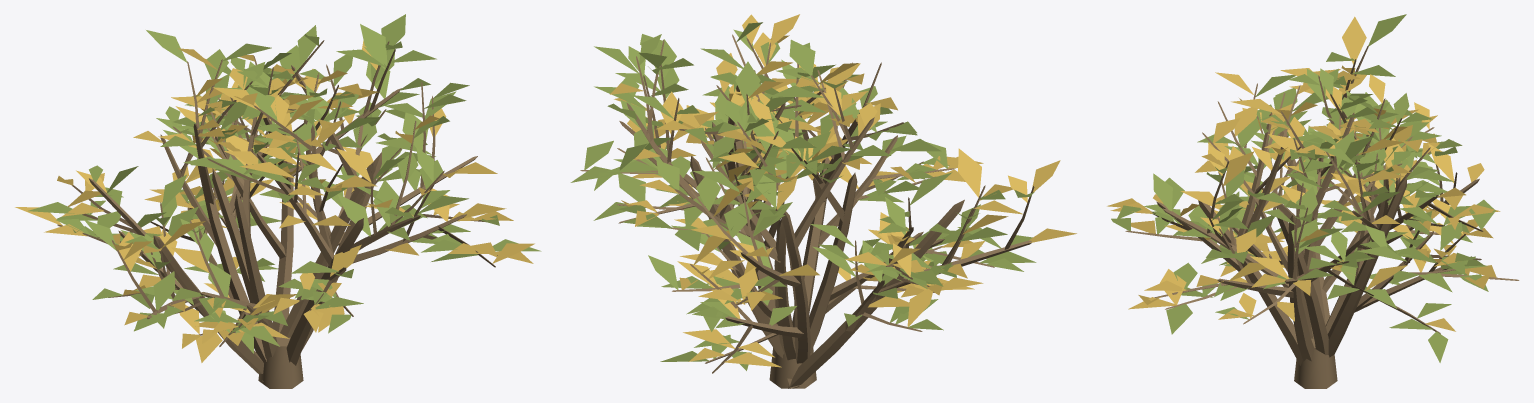
The model's file is shrub_dry_b.glb.
3 views of the same model, side by side, from view 1: azimuth 30°, elevation 25°; view 2: azimuth 150°, elevation 25°; view 3: azimuth 270°, elevation 25° (orthographic). The views are drawn at different scales.
Visible parts, largest first — view 1: shrub_dry_b; view 2: shrub_dry_b; view 3: shrub_dry_b.
Part boxes in pixels (x1,y1,x2,y2): shrub_dry_b: (15,14,541,388); shrub_dry_b: (570,14,1076,388); shrub_dry_b: (1107,14,1519,388).
Bounding box in the file's own units: 0.819 × 0.6602 × 0.7604.
